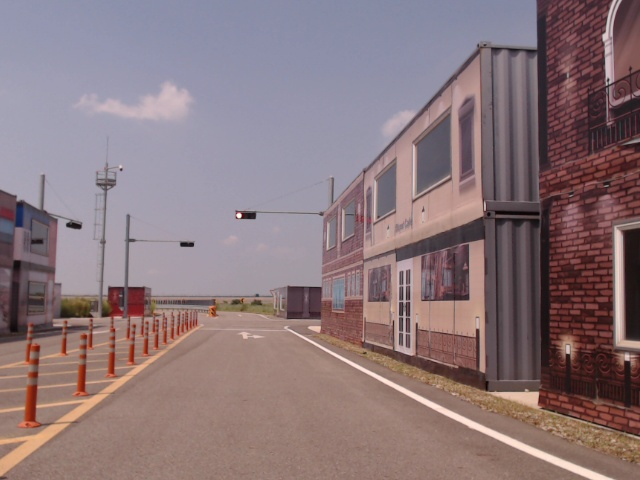red_3: (236, 211, 256, 219)
